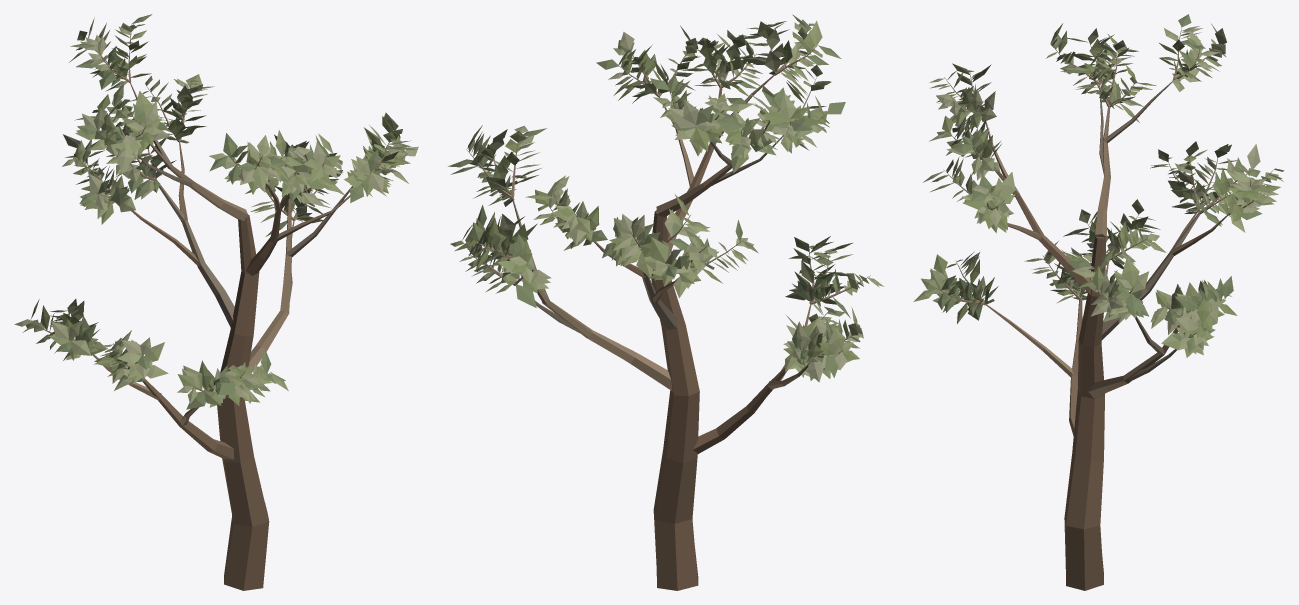
The picture shows the model from 3 angles, left to right: view 1: azimuth 30°, elevation 25°; view 2: azimuth 150°, elevation 25°; view 3: azimuth 270°, elevation 25°; orthographic projection. The views are drawn at different scales.
Visible parts, largest first — view 1: t01; view 2: t01; view 3: t01.
Part boxes in pixels (x1,y1,x2,y2): t01: (14,14,418,590); t01: (448,14,884,590); t01: (913,14,1284,590).
Bounding box in the file's own units: 1.91 × 2.5 × 1.62.
